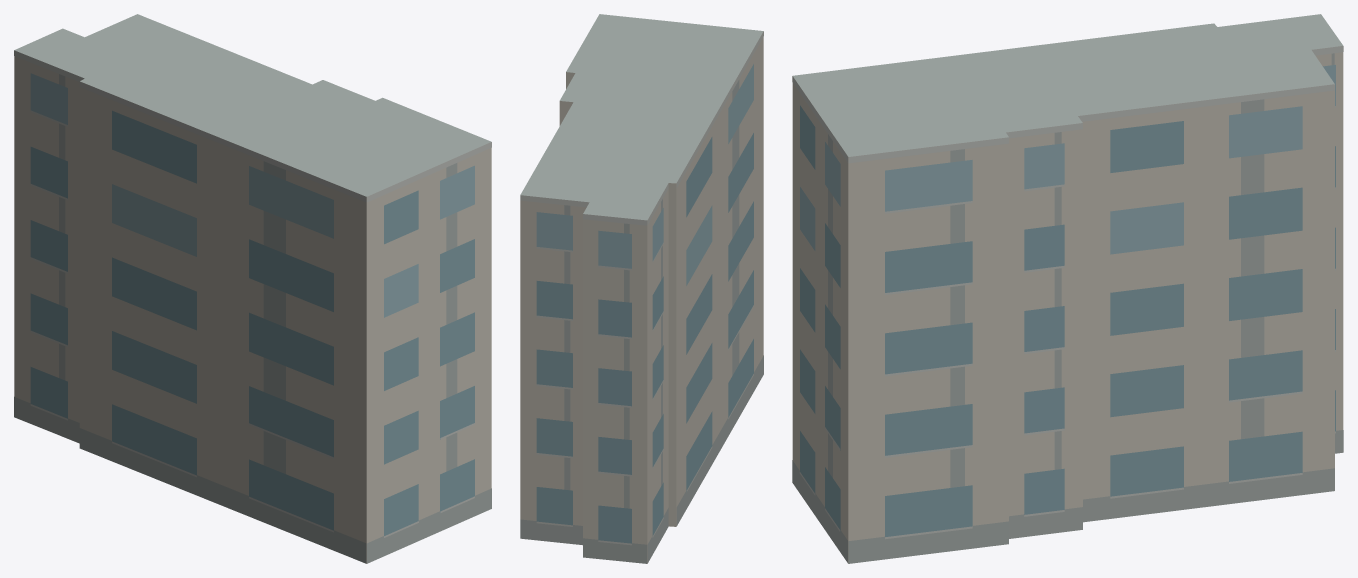
File: survey-upis-32575316.glb
The picture shows the model from 3 angles, left to right: view 1: azimuth 30°, elevation 25°; view 2: azimuth 150°, elevation 25°; view 3: azimuth 270°, elevation 25°; orthographic projection. The views are drawn at different scales.
Parts seen in each view (by area): view 1: survey-upis-32575316.tmp; view 2: survey-upis-32575316.tmp; view 3: survey-upis-32575316.tmp.
Boxes of the visible parts, x1,y1,x2,y2 form: survey-upis-32575316.tmp: (14, 14, 491, 563); survey-upis-32575316.tmp: (520, 14, 763, 563); survey-upis-32575316.tmp: (792, 14, 1343, 563).
Bounding box in the file's own units: 11.77 × 15.6 × 19.16.
